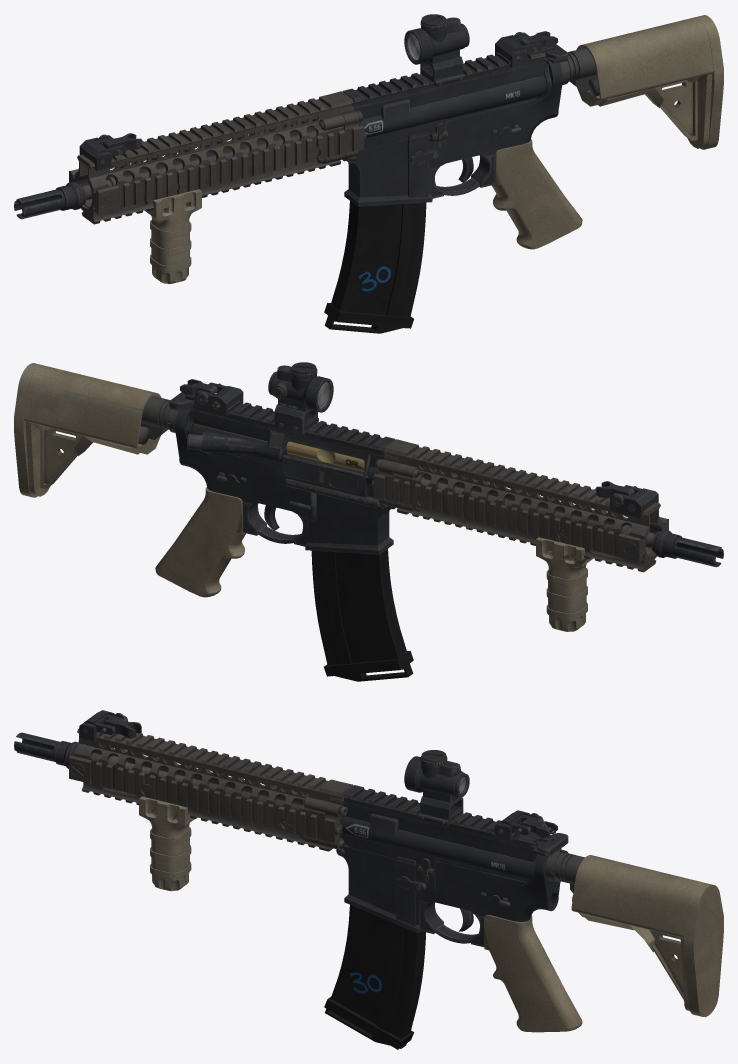
The model's file is weapon_mk18.glb.
The picture shows the model from 3 angles, top to bottom: view 1: azimuth 30°, elevation 25°; view 2: azimuth 150°, elevation 25°; view 3: azimuth 330°, elevation 25°; orthographic projection.
Visible parts, largest first — view 1: rcvr-lower_low, mag-actual_low, buttstock-main_low, receiver-top_low, bar-side-rails_low, pistol-grip_low, bar-top-rail_low, bar-main_low, foregrip_low, receiver-top-rail_low, mro-main-body_low, bar-bottom-rail_low (+11 smaller); view 2: rcvr-lower_low, mag-actual_low, buttstock-main_low, bar-side-rails_low, pistol-grip_low, bar-top-rail_low, receiver-top_low, bar-main_low, foregrip_low, receiver-top-rail_low, bar-bottom-rail_low, mro-main-body_low (+13 smaller); view 3: rcvr-lower_low, mag-actual_low, receiver-top_low, buttstock-main_low, pistol-grip_low, bar-side-rails_low, bar-top-rail_low, buttstock-butt_low, bar-main_low, foregrip_low, receiver-top-rail_low, mro-main-body_low (+9 smaller).
Boxes of the visible parts, x1,y1,x2,y2 form: rcvr-lower_low: [344, 53, 563, 206]; mag-actual_low: [330, 201, 426, 316]; buttstock-main_low: [576, 17, 713, 148]; receiver-top_low: [342, 62, 551, 161]; bar-side-rails_low: [69, 124, 365, 213]; pistol-grip_low: [491, 139, 582, 249]; bar-top-rail_low: [77, 91, 353, 178]; bar-main_low: [74, 114, 344, 213]; foregrip_low: [144, 189, 201, 283]; receiver-top-rail_low: [342, 46, 552, 108]; mro-main-body_low: [404, 17, 469, 64]; bar-bottom-rail_low: [81, 160, 340, 224]; rcvr-lower_low: [174, 401, 393, 554]; mag-actual_low: [311, 549, 407, 664]; buttstock-main_low: [24, 365, 161, 496]; bar-side-rails_low: [372, 472, 668, 561]; pistol-grip_low: [155, 487, 246, 597]; bar-top-rail_low: [384, 439, 660, 526]; receiver-top_low: [186, 410, 395, 509]; bar-main_low: [393, 462, 663, 561]; foregrip_low: [536, 537, 593, 631]; receiver-top-rail_low: [185, 394, 395, 456]; bar-bottom-rail_low: [397, 508, 656, 572]; mro-main-body_low: [268, 365, 333, 412]; rcvr-lower_low: [336, 844, 561, 933]; mag-actual_low: [330, 905, 425, 1038]; receiver-top_low: [339, 802, 537, 884]; buttstock-main_low: [571, 855, 703, 1011]; pistol-grip_low: [484, 914, 582, 1032]; bar-side-rails_low: [69, 749, 342, 843]; bar-top-rail_low: [77, 728, 353, 801]; buttstock-butt_low: [684, 882, 723, 1017]; bar-main_low: [74, 740, 327, 846]; foregrip_low: [139, 796, 194, 891]; receiver-top-rail_low: [342, 785, 552, 848]; mro-main-body_low: [404, 756, 469, 802].
Bounding box in the file's own units: 1221 × 506 × 105.
2 materials, 2 textured.
